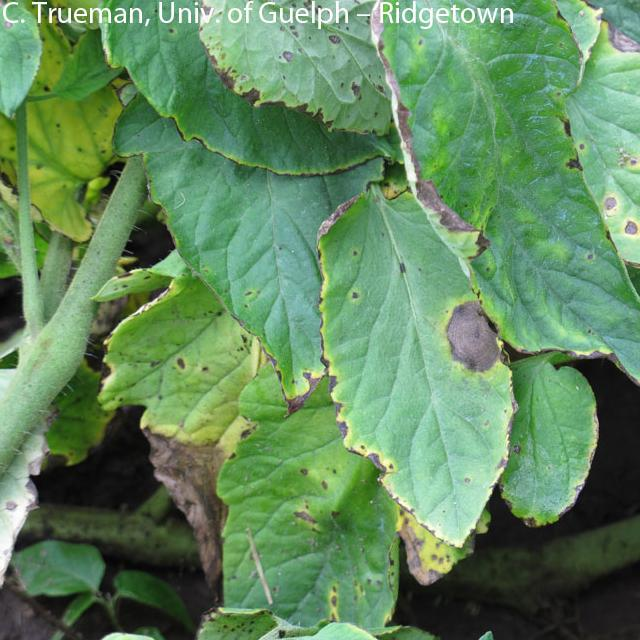Tomato Early blight leaf: (363, 0, 640, 393), (314, 185, 526, 530), (222, 394, 423, 640)
